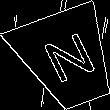N_SE: (35, 29, 100, 90)
